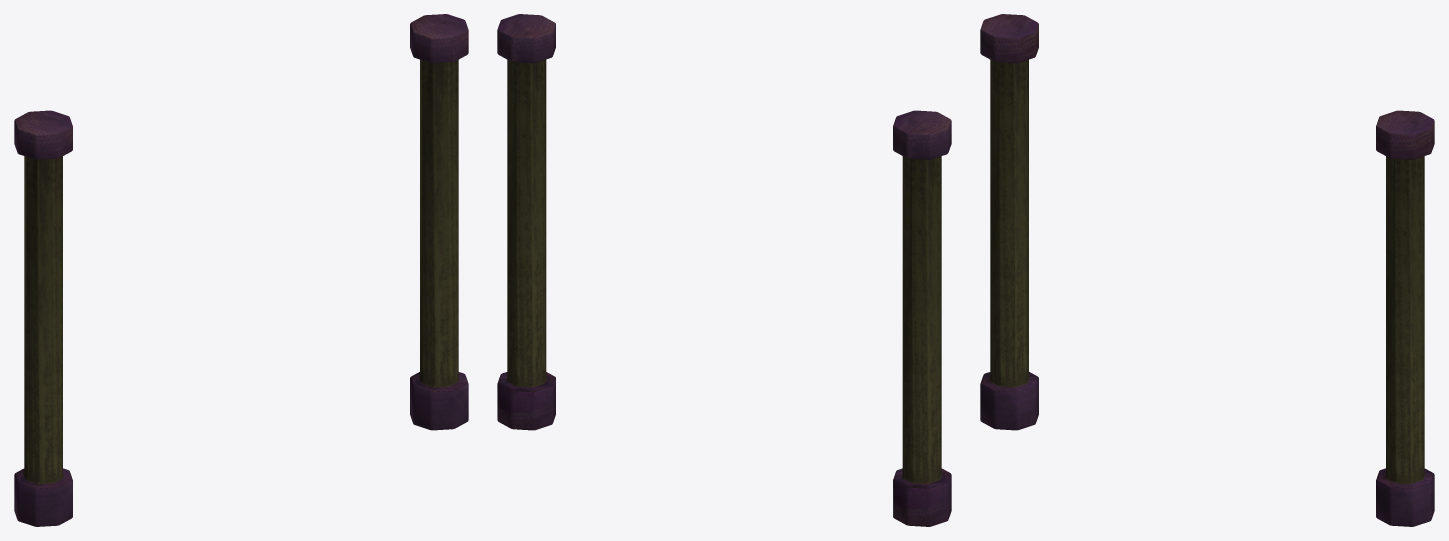
File: MANOR_WINDOW-PILLAR_3.obj
3 views of the same model, side by side, from view 1: azimuth 30°, elevation 25°; view 2: azimuth 150°, elevation 25°; view 3: azimuth 330°, elevation 25° (orthographic).
Parts seen in each view (by area): view 1: MANOR_WINDOW-PILLAR_3.002; view 2: MANOR_WINDOW-PILLAR_3.002; view 3: MANOR_WINDOW-PILLAR_3.002.
Part boxes in pixels (box(x1,y1,x2,y2)): MANOR_WINDOW-PILLAR_3.002: box(14, 14, 468, 526); MANOR_WINDOW-PILLAR_3.002: box(497, 14, 951, 526); MANOR_WINDOW-PILLAR_3.002: box(980, 14, 1434, 526).
Bounding box in the file's own units: 3.57 × 3 × 0.4135.
